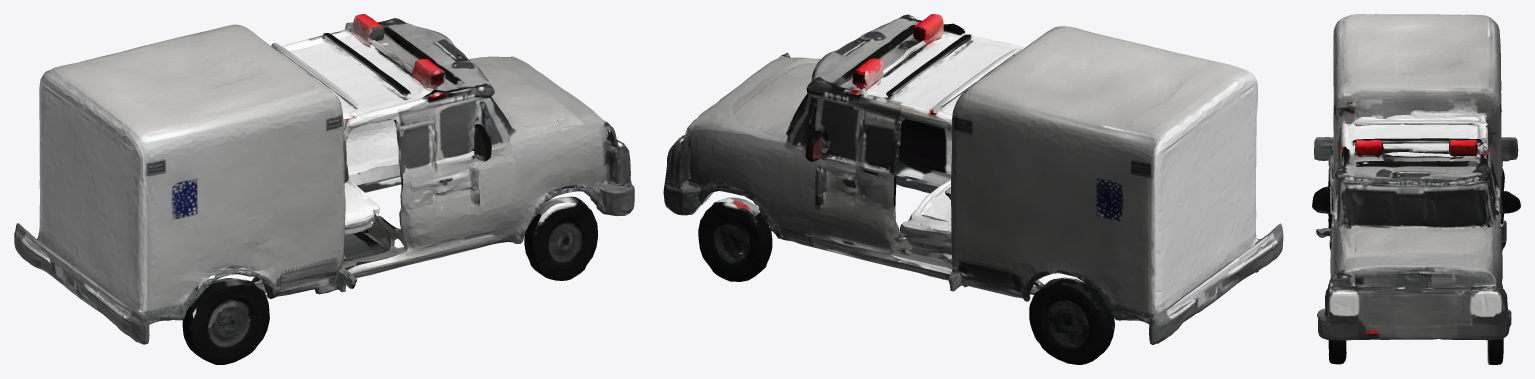
3 renders of one model, left to right at view 1: azimuth 30°, elevation 25°; view 2: azimuth 150°, elevation 25°; view 3: azimuth 270°, elevation 25°, orthographic. The views are drawn at different scales.
Parts seen in each view (by area): view 1: world; view 2: world; view 3: world.
Part boxes in pixels (box(x1,y1,x2,y2)): world: box(14, 14, 634, 364); world: box(663, 14, 1283, 364); world: box(1312, 14, 1520, 364).
Size of the model in its own units: 0.99 by 0.4599 by 0.4563.
Materials: 1 (1 with a texture image).
